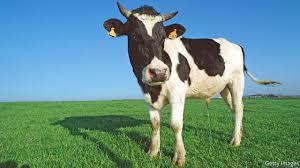cow: (103, 0, 283, 166)
